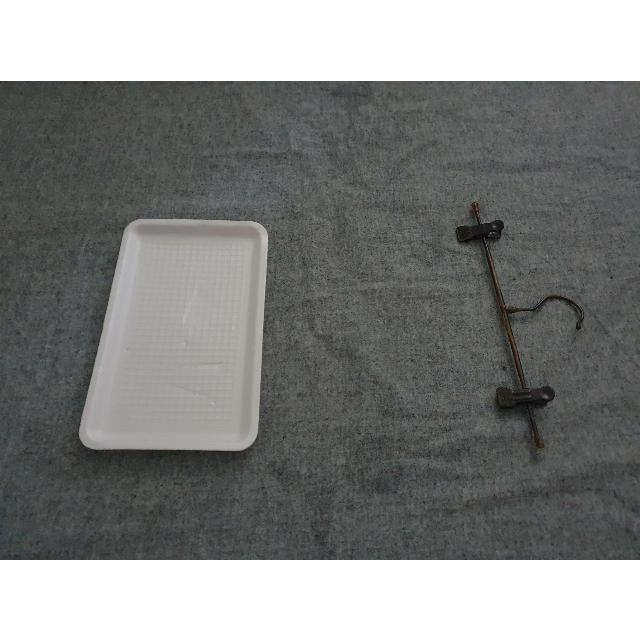Recipiente plastico: (80, 220, 268, 451)
